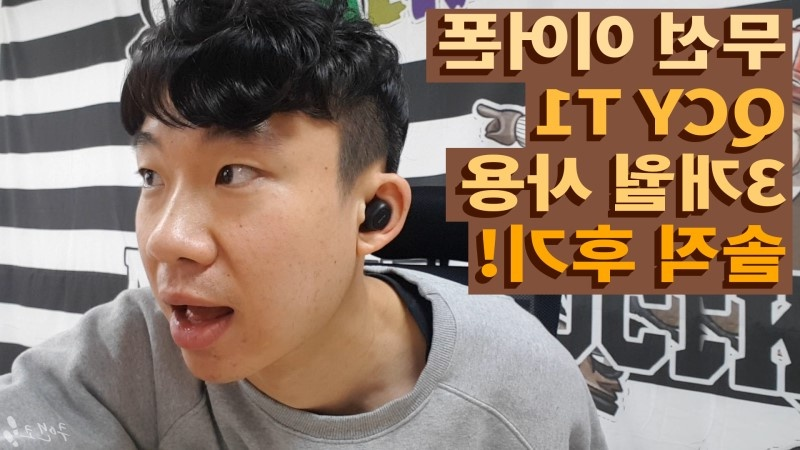earphone: (345, 173, 412, 255)
